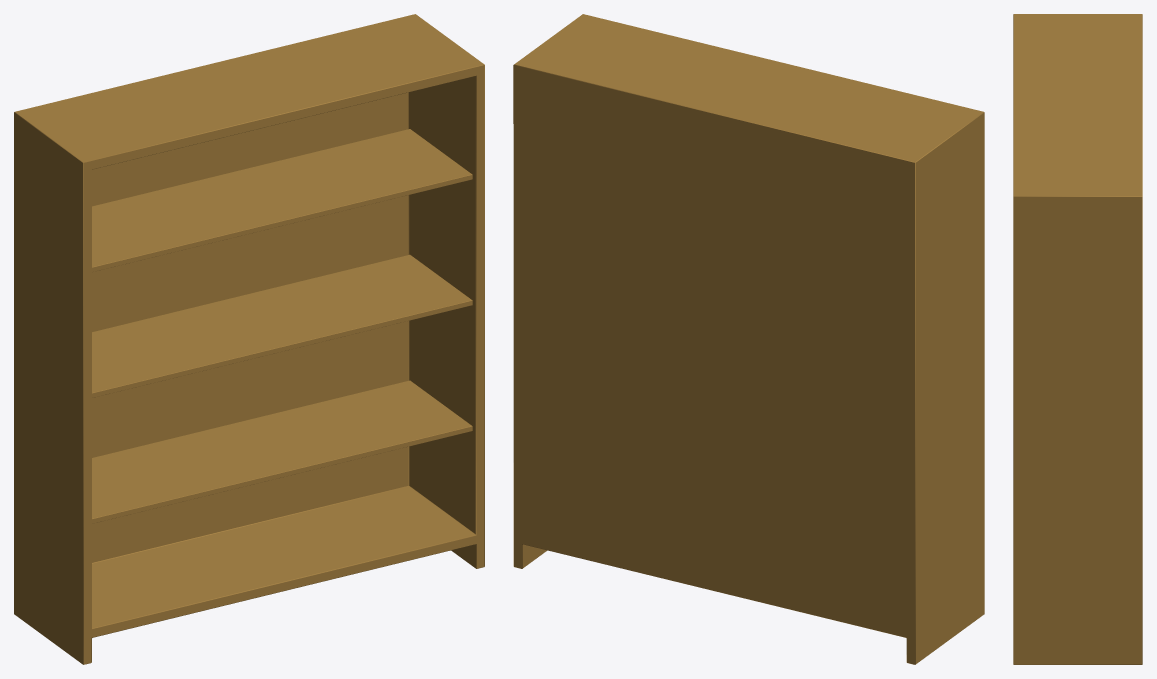
The model's file is shelf.fbx.
3 views of the same model, side by side, from view 1: azimuth 30°, elevation 25°; view 2: azimuth 150°, elevation 25°; view 3: azimuth 270°, elevation 25° (orthographic). The views are drawn at different scales.
Parts seen in each view (by area): view 1: shelf; view 2: shelf; view 3: shelf.
Part boxes in pixels (bbox=[...]): shelf: bbox=[14, 14, 484, 664]; shelf: bbox=[513, 14, 984, 664]; shelf: bbox=[1013, 14, 1142, 664].
Bounding box in the file's own units: 167 × 200 × 50.
Materials: 1 (1 with a texture image).
